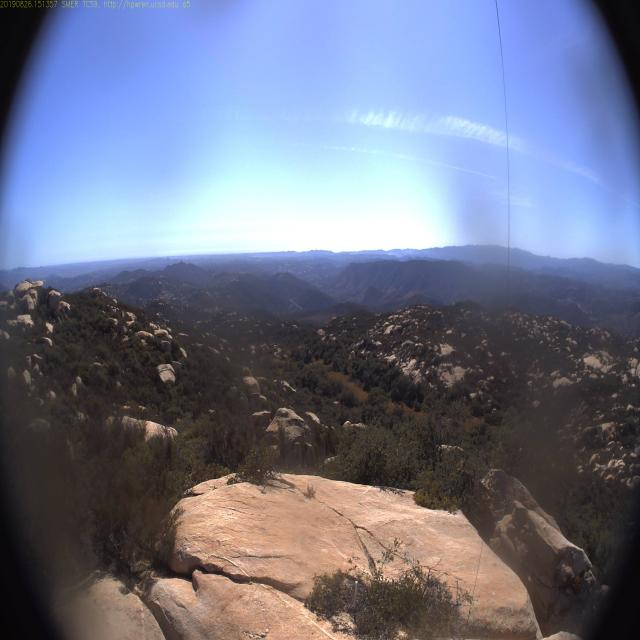smoke: (386, 249, 395, 258)
